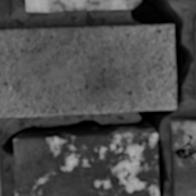brick: (0, 25, 175, 116), (14, 130, 158, 195), (170, 117, 195, 195), (0, 0, 11, 14), (0, 150, 2, 195), (194, 18, 195, 92)
broken_brick: (25, 0, 140, 12), (171, 0, 195, 1)
crack: (0, 0, 193, 195)
